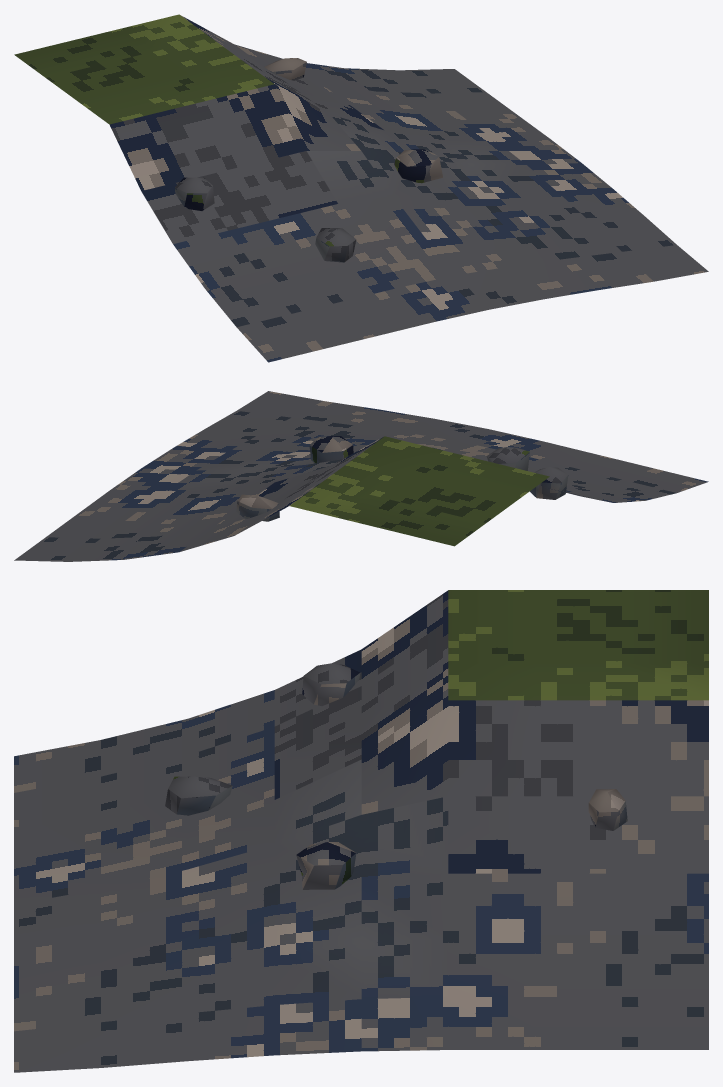
The model's file is lake.shore__corner_out.glb.
3 views of the same model, one above another, from view 1: azimuth 30°, elevation 25°; view 2: azimuth 150°, elevation 25°; view 3: azimuth 270°, elevation 25° (orthographic). The views are drawn at different scales.
Parts seen in each view (by area): view 1: kit_shell_bank, kit_stones; view 2: kit_shell_bank, kit_stones; view 3: kit_shell_bank, kit_stones.
Part boxes in pixels (x1=…): kit_shell_bank: x1=14, y1=14, x2=708, y2=362; kit_stones: x1=175, y1=58, x2=442, y2=262; kit_shell_bank: x1=14, y1=391, x2=708, y2=561; kit_stones: x1=236, y1=436, x2=568, y2=521; kit_shell_bank: x1=14, y1=590, x2=708, y2=1072; kit_stones: x1=165, y1=663, x2=627, y2=889.
Bounding box in the file's own units: 4 × 1.2 × 4.
4 materials, 4 textured.
